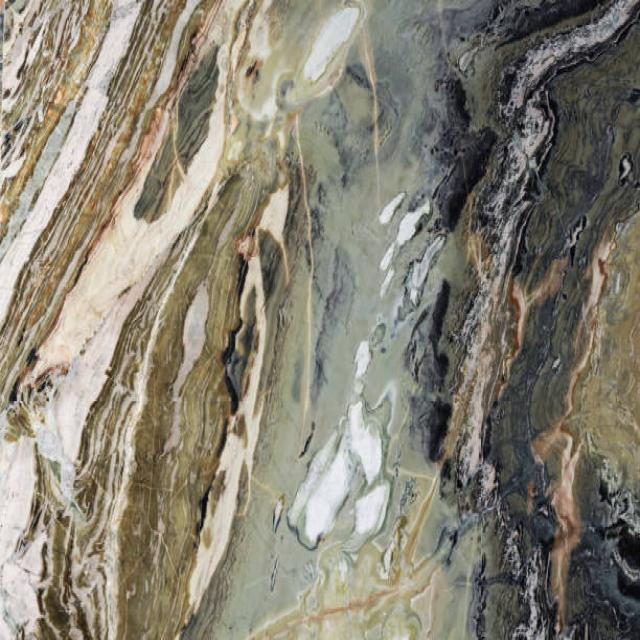Metamorphic: (5, 4, 640, 634)
